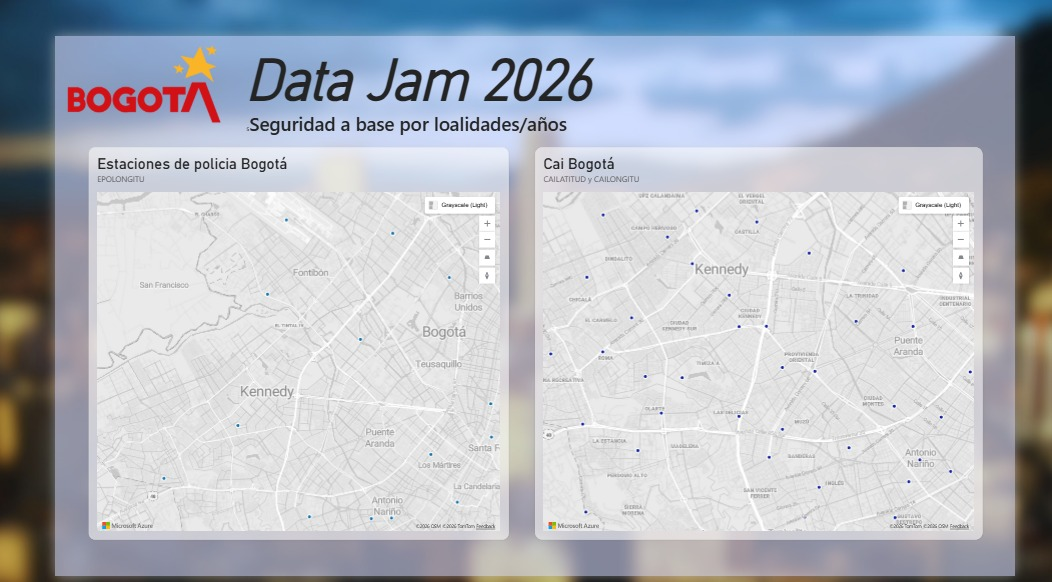

The dashboard page shown, as its layout file describes it:
{"tool":"powerbi","page":{"name":"Página 2","canvas":[1920,1080],"ordinal":1},"visuals":[{"type":"azureMap","title":"Estaciones de policia Bogotá","fields":{"X":["Estacion.EPOLONGITU"]},"box":[67.5,222.5,840,785],"z":0},{"type":"azureMap","title":"Cai Bogotá","fields":{"X":["Cai.CAILONGITU"],"Y":["Cai.CAILATITUD"]},"box":[960,222.5,895,785],"z":1000},{"type":"image","box":[0,0,357.5,227.5],"z":2000},{"type":"textbox","box":[382,20,972,188],"z":3000}]}

Visuals, with their boxes in screenshot pixels (x1, y1, x2, y2), scaled from the page's 1920x1080 canvas onto the 1052x582 screenshot:
"Estaciones de policia Bogotá" azureMap: [37,120,497,543]
"Cai Bogotá" azureMap: [526,120,1016,543]
image: [0,0,196,123]
textbox: [209,11,742,112]
